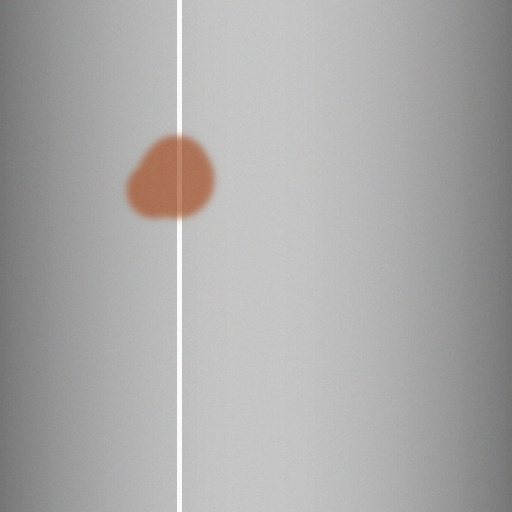surface_abnormality: (120, 126, 220, 226)
